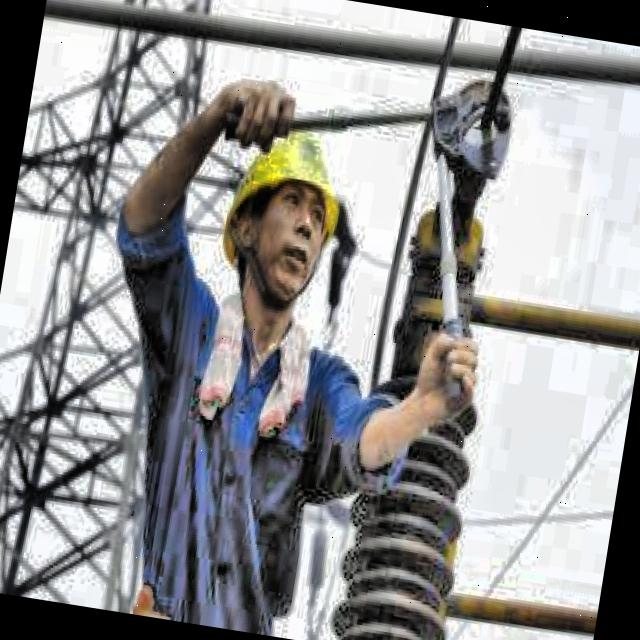helmet: (208, 114, 368, 320)
